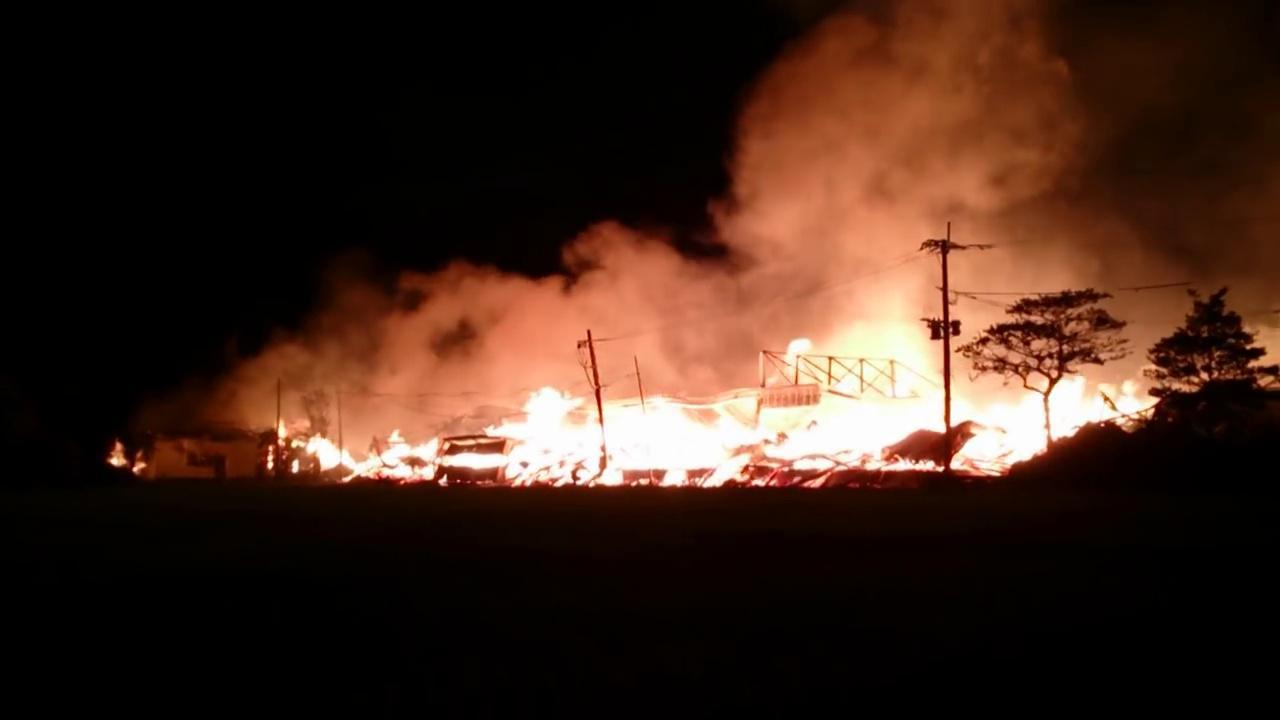Fire: (263, 322, 1168, 482), (105, 438, 150, 475)
